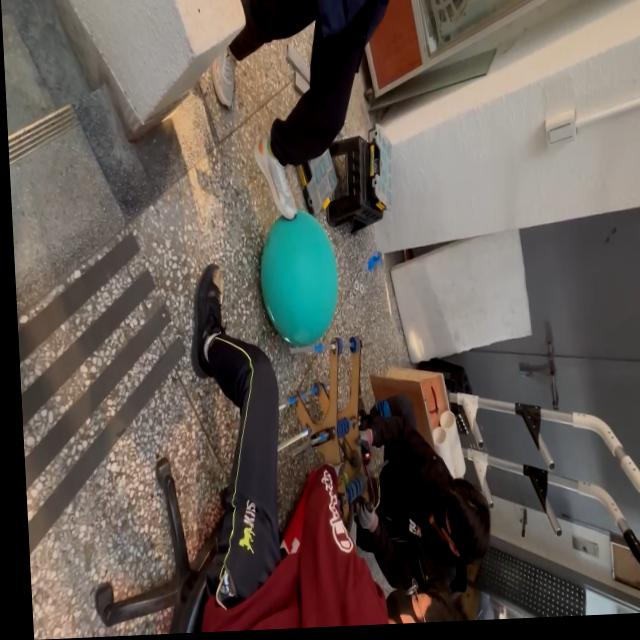ALGAE: (254, 206, 342, 350)
